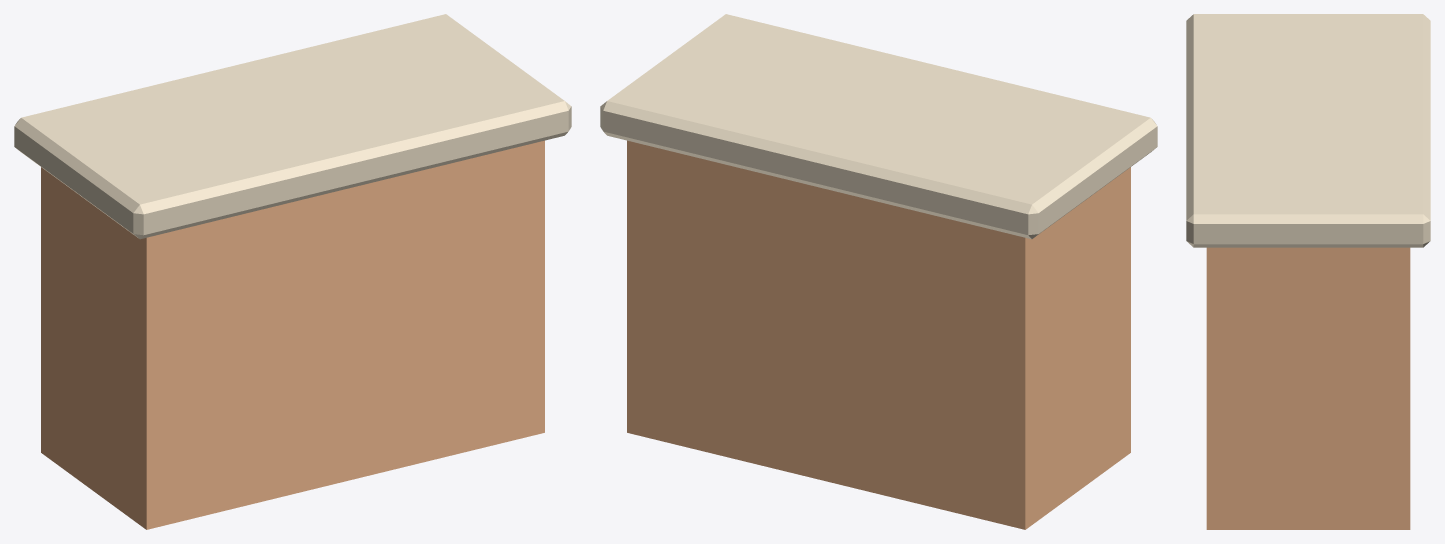
The picture shows the model from 3 angles, left to right: view 1: azimuth 30°, elevation 25°; view 2: azimuth 150°, elevation 25°; view 3: azimuth 270°, elevation 25°; orthographic projection. The views are drawn at different scales.
Visible parts, largest first — view 1: Desk body, Desk top; view 2: Desk body, Desk top; view 3: Desk body, Desk top.
Boxes of the visible parts, x1,y1,x2,y2 form: Desk body: (41,140,544,529); Desk top: (14,14,571,239); Desk body: (627,140,1130,529); Desk top: (600,14,1157,239); Desk body: (1206,247,1410,529); Desk top: (1186,14,1430,247).
Size of the model in its own units: 1.32 by 0.96 by 0.66.
1 material, 1 textured.
